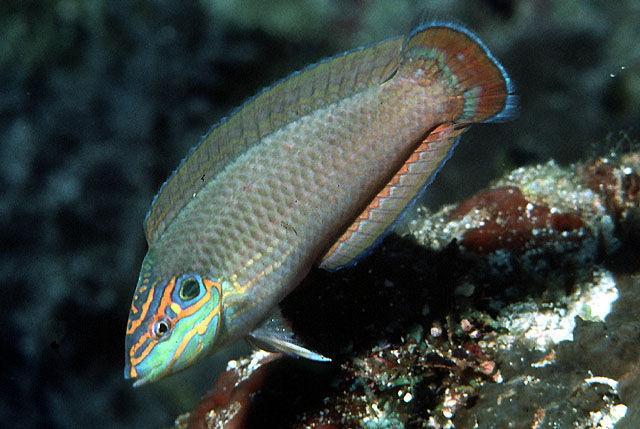fish: (123, 7, 522, 390)
